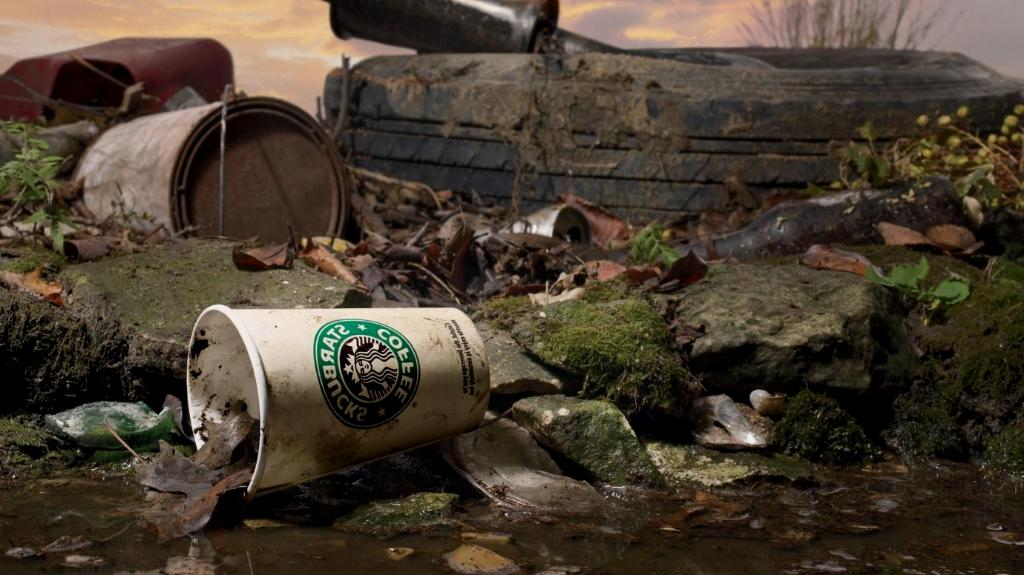garbage: (184, 305, 488, 498)
